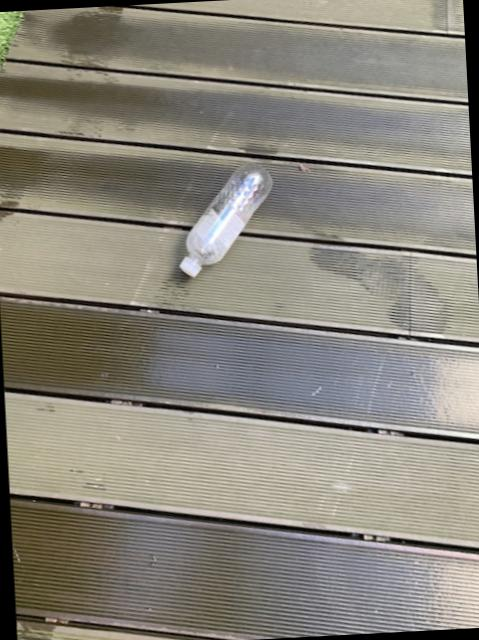plastic: (181, 161, 272, 274)
